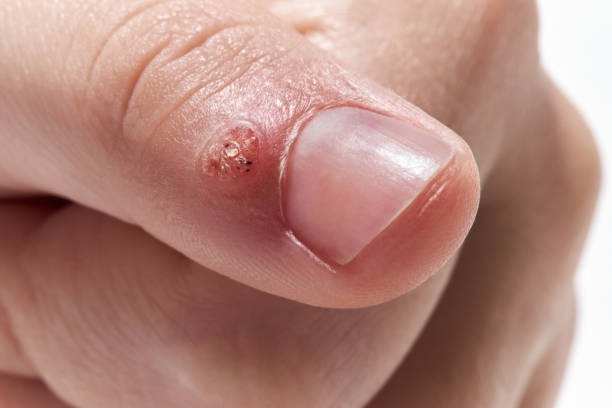Warts: (187, 110, 276, 202)
